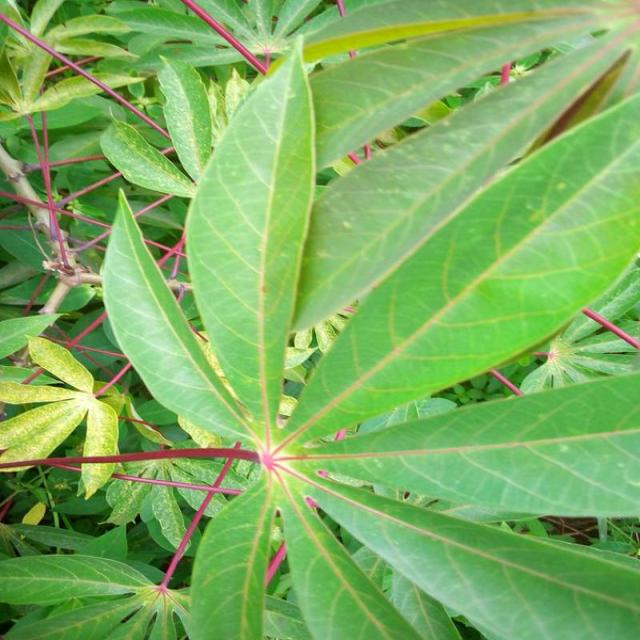cassava leaf: (3, 0, 639, 637), (185, 33, 318, 429)
